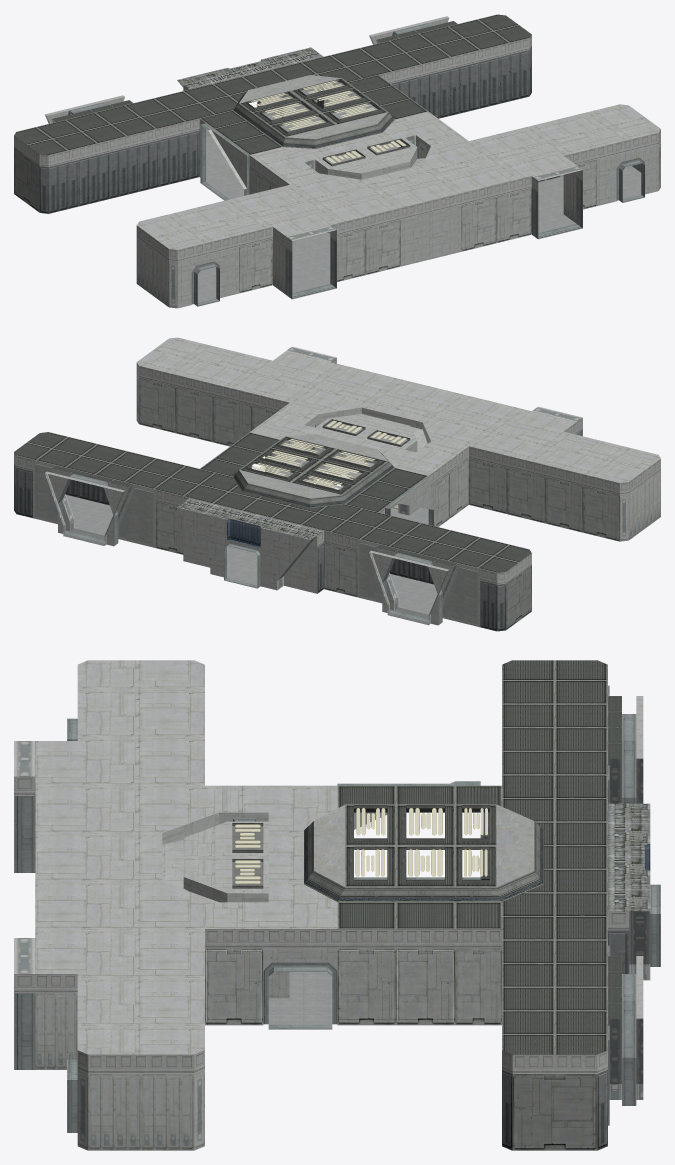
The model's file is mun_all_military_base_police_station_impl_s01_r2_mainhall_mesh_r2.fbx.
3 renders of one model, top to bottom at view 1: azimuth 30°, elevation 25°; view 2: azimuth 150°, elevation 25°; view 3: azimuth 270°, elevation 25°, orthographic. The views are drawn at different scales.
Parts seen in each view (by area): view 1: mesh_node; view 2: mesh_node; view 3: mesh_node.
Part boxes in pixels (box(x1,y1,x2,y2)): mesh_node: box(14, 14, 660, 308); mesh_node: box(14, 337, 660, 631); mesh_node: box(14, 660, 660, 1150).
Bounding box in the file's own units: 44 × 5.78 × 30.5.
